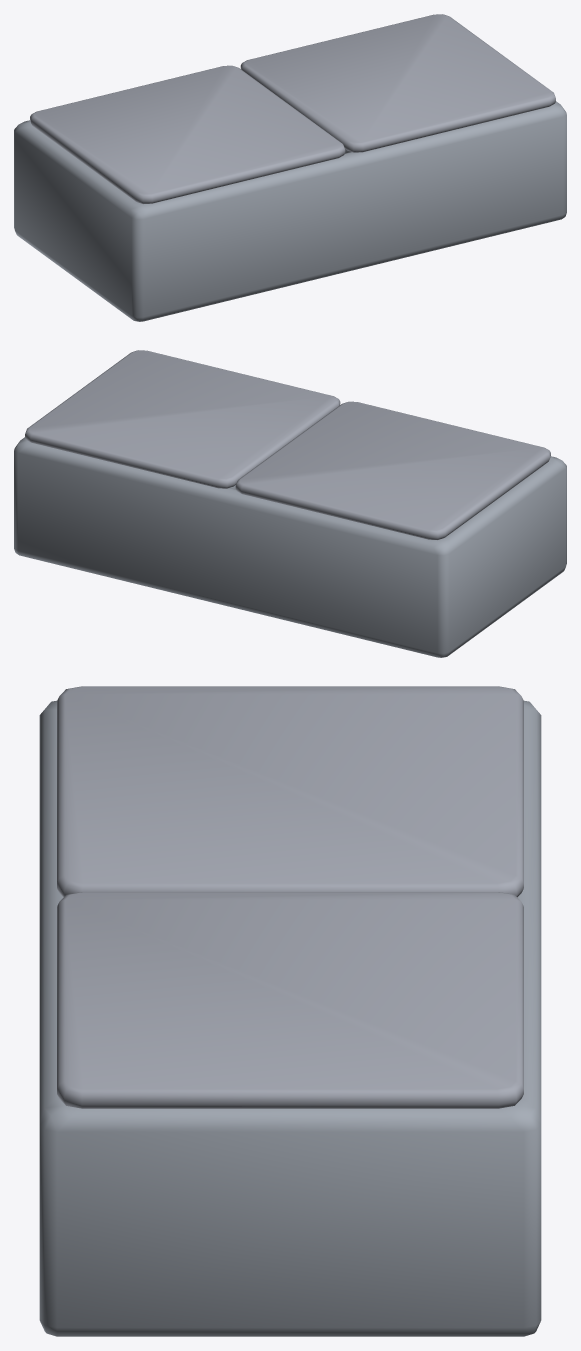
Rendered from Block-I-Gray.fbx.
3 views of the same model, one above another, from view 1: azimuth 30°, elevation 25°; view 2: azimuth 150°, elevation 25°; view 3: azimuth 270°, elevation 25° (orthographic). The views are drawn at different scales.
Visible parts, largest first — view 1: Block-I-Gray, Cube.033; view 2: Block-I-Gray, Cube.033; view 3: Cube.033, Block-I-Gray.
Part boxes in pixels (box(x1,y1,x2,y2)): Block-I-Gray: box(14, 101, 566, 321); Cube.033: box(30, 14, 555, 203); Block-I-Gray: box(14, 437, 566, 657); Cube.033: box(25, 350, 550, 539); Cube.033: box(57, 686, 523, 1108); Block-I-Gray: box(39, 700, 541, 1336).
Size of the model in its own units: 200 by 54.11 by 100.
